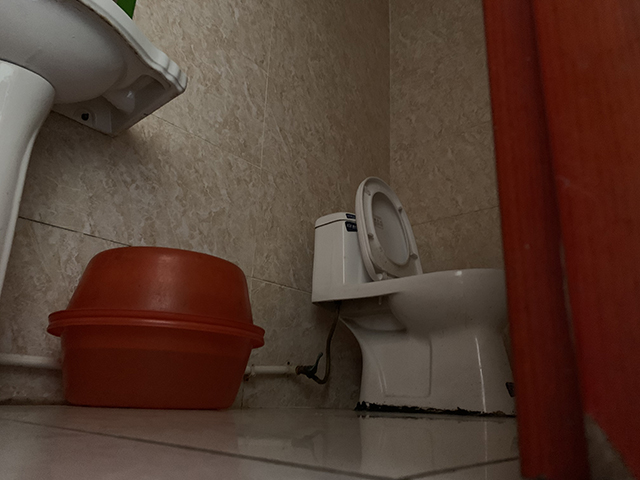closestool: (308, 172, 507, 414)
